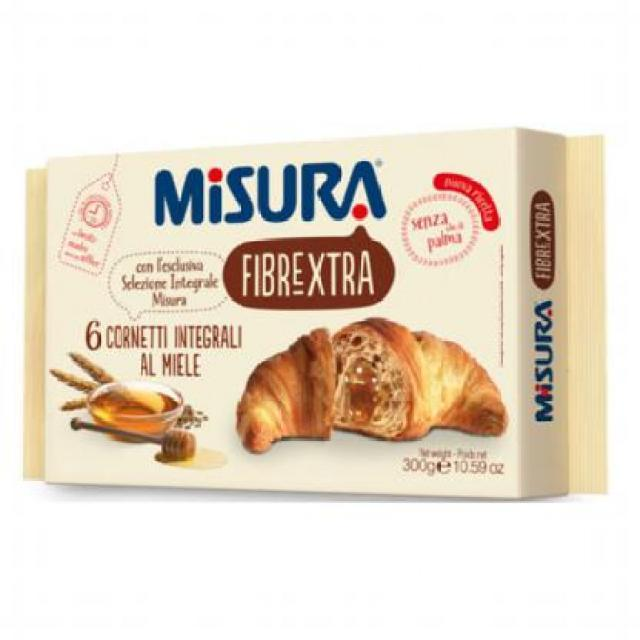Merendine: (9, 124, 618, 516)
